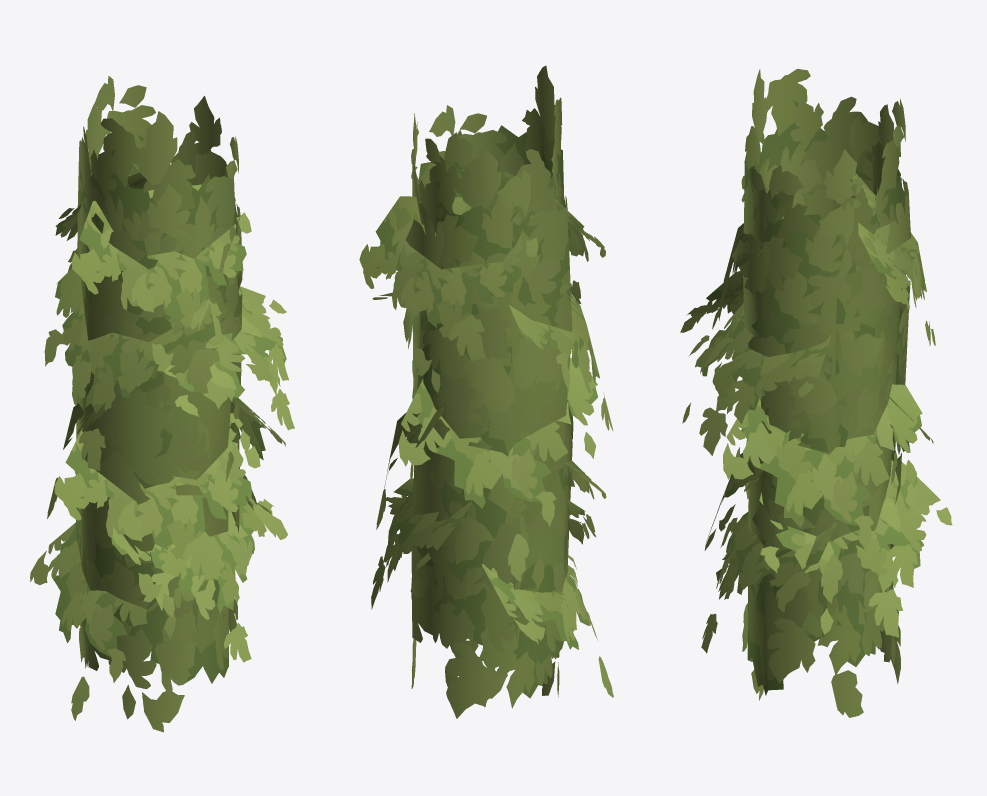
Rendered from SM_Env_Vine_13.fbx.
3 renders of one model, left to right at view 1: azimuth 30°, elevation 25°; view 2: azimuth 150°, elevation 25°; view 3: azimuth 270°, elevation 25°, orthographic.
Parts seen in each view (by area): view 1: SM_Env_Vine_13; view 2: SM_Env_Vine_13; view 3: SM_Env_Vine_13.
Part boxes in pixels (bbox=[...]): SM_Env_Vine_13: bbox=[30, 76, 294, 732]; SM_Env_Vine_13: bbox=[359, 65, 613, 718]; SM_Env_Vine_13: bbox=[680, 68, 952, 717].
Bounding box in the file's own units: 119 × 300 × 118.
